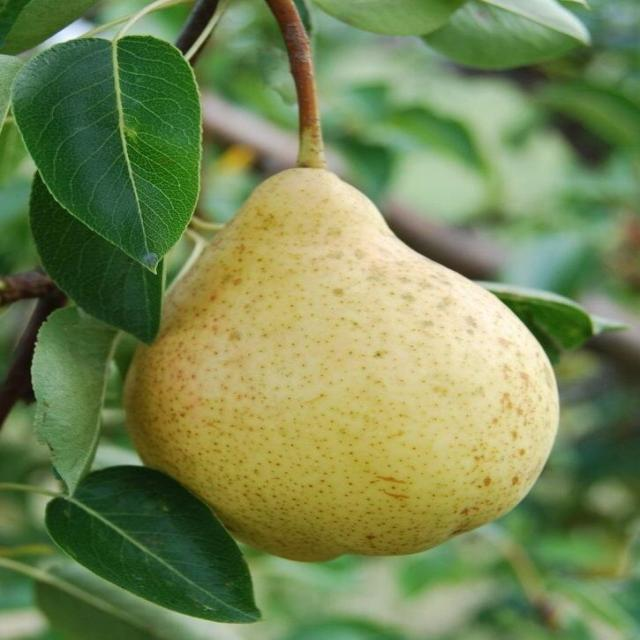pear: (124, 165, 560, 560)
